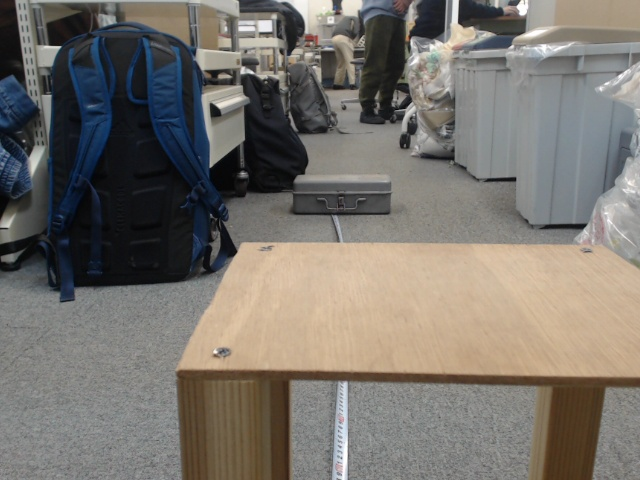desk: (258, 147, 483, 401)
